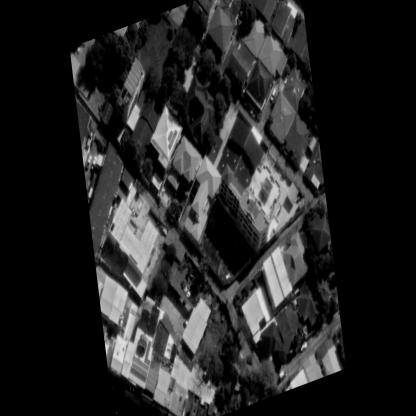solar-pv-panel: (167, 129, 178, 150)
